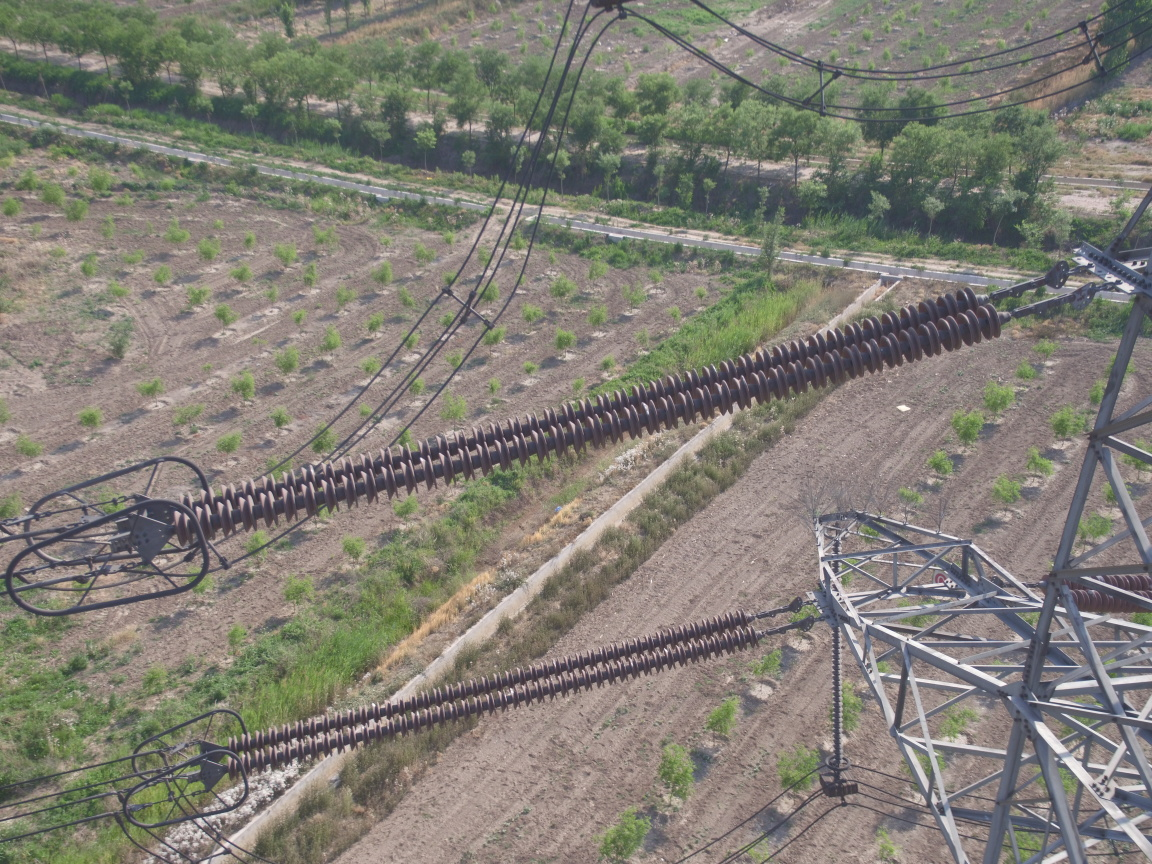insulator: (156, 281, 1032, 548), (217, 607, 773, 777)
